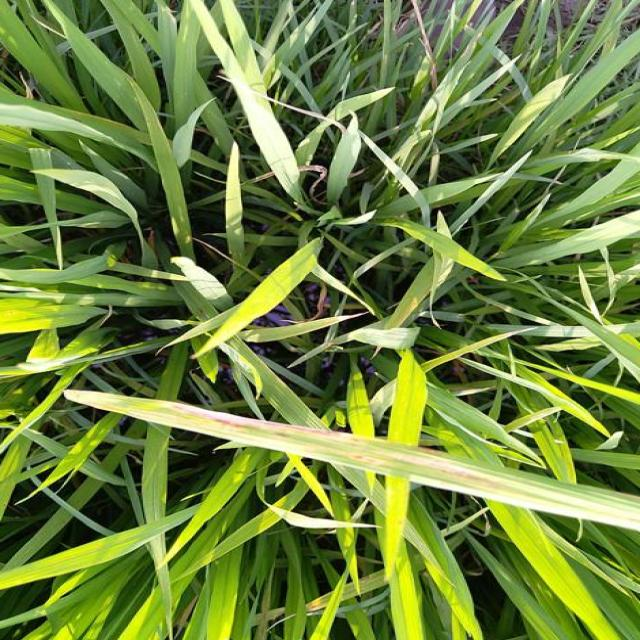Leaf Streak: (65, 388, 640, 529)
